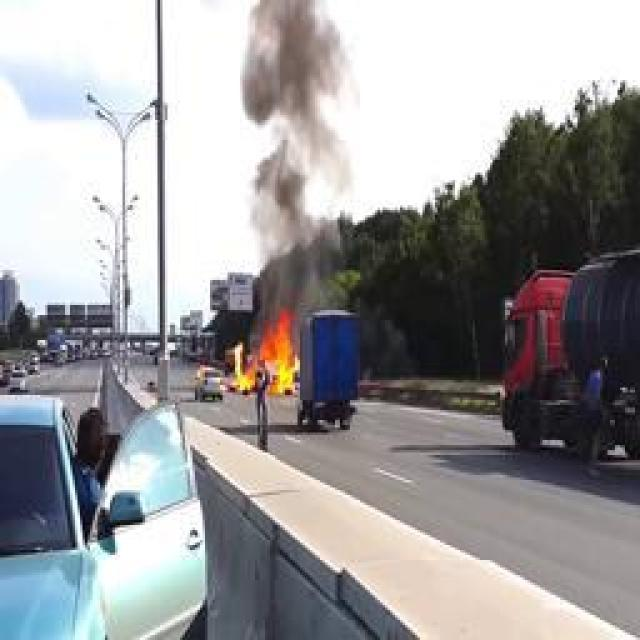Fire: (236, 308, 299, 398)
